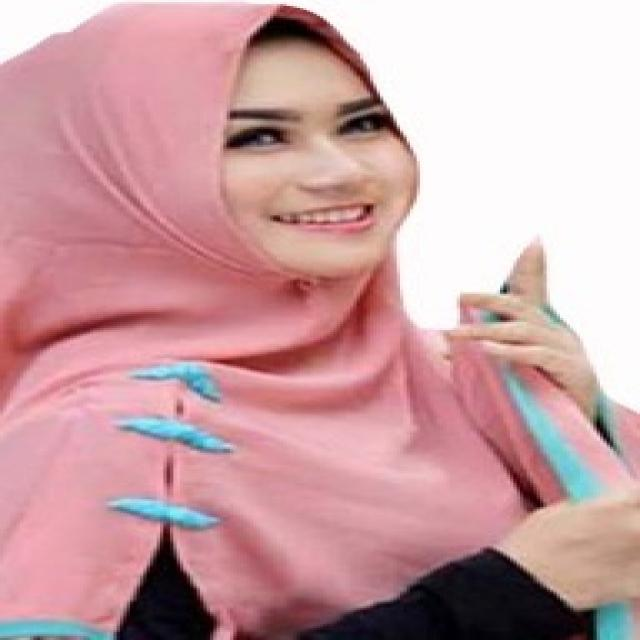head: (1, 1, 444, 272)
